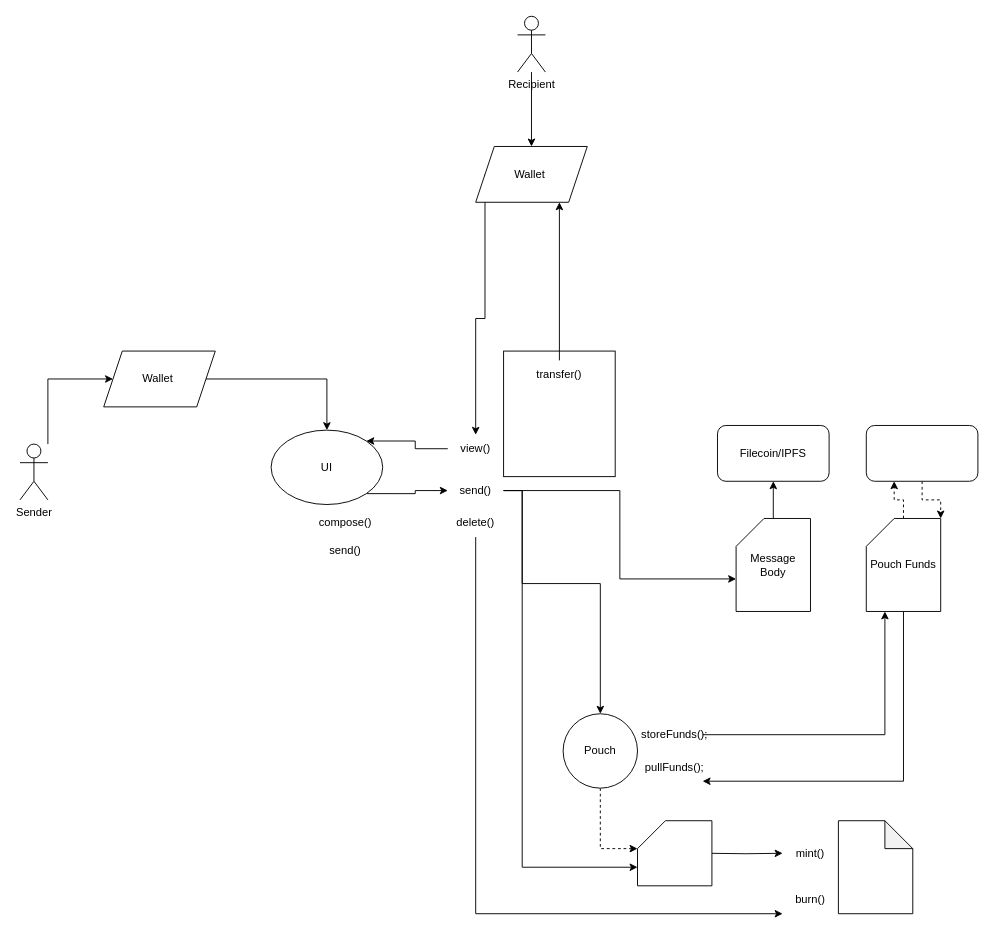
This 994x937 diagram has some shape labels left out. The box of each missing label's shape, as (x1, y1, x2, y2) in pixels:
Message Header: (637, 820, 712, 886)
NFT Message Contract: (837, 820, 913, 914)
Postando: (503, 350, 615, 477)
Sushi: (865, 425, 978, 481)
